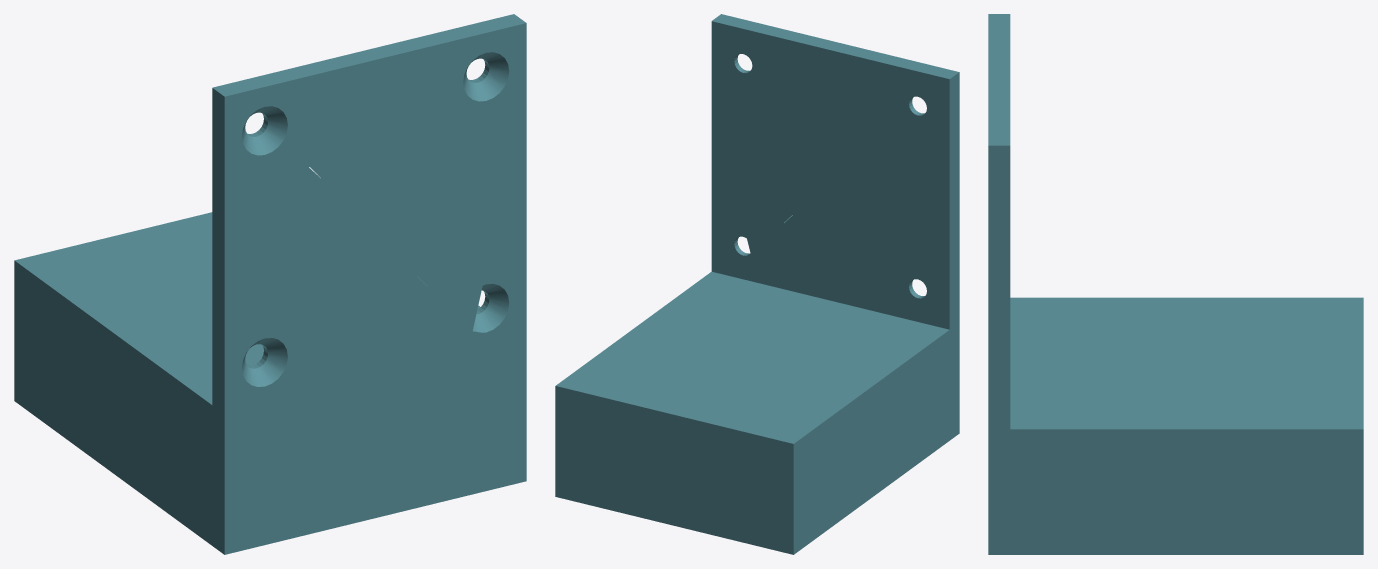
The model's file is for motor.obj.
The picture shows the model from 3 angles, left to right: view 1: azimuth 30°, elevation 25°; view 2: azimuth 150°, elevation 25°; view 3: azimuth 270°, elevation 25°; orthographic projection. The views are drawn at different scales.
Parts seen in each view (by area): view 1: a2_2 a2; view 2: a2_2 a2; view 3: a2_2 a2.
Boxes of the visible parts, box(x1,y1,x2,y2) form: a2_2 a2: box(14, 14, 526, 554); a2_2 a2: box(555, 14, 959, 554); a2_2 a2: box(988, 14, 1363, 554).
Bounding box in the file's own units: 42.3 × 61.35 × 51.
